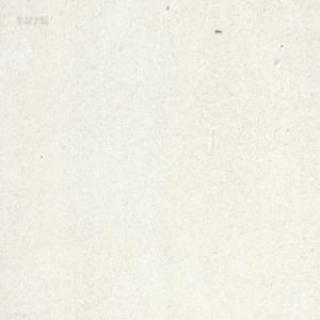Nailtrack_idkeyframe: (214, 27, 221, 33)
